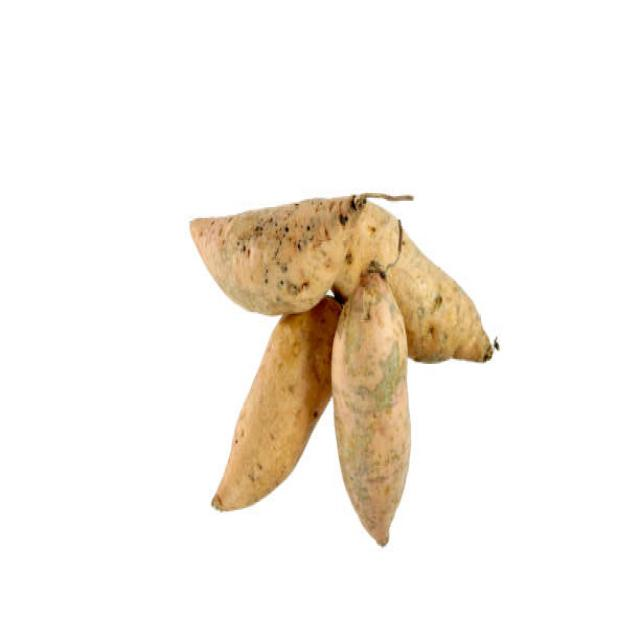sweet potato: (333, 268, 411, 555), (210, 330, 330, 510), (186, 196, 342, 318), (404, 241, 498, 368)
